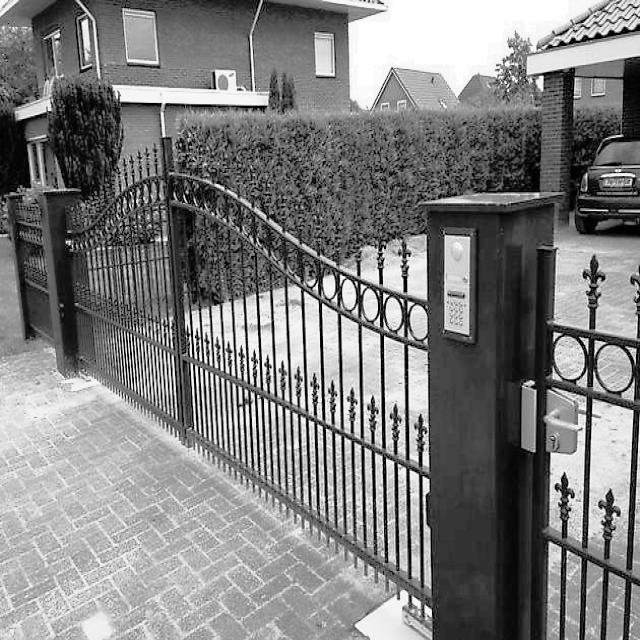fences: (84, 166, 416, 557), (16, 215, 42, 352)
